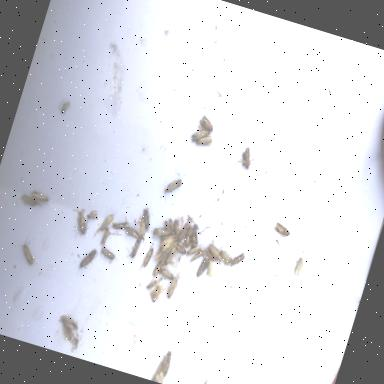pbw: (158, 174, 184, 207), (128, 214, 152, 244), (70, 208, 93, 238), (137, 244, 157, 276), (204, 240, 230, 264), (14, 192, 44, 212), (78, 246, 99, 272), (123, 232, 142, 260), (226, 250, 246, 276), (122, 219, 143, 243), (217, 239, 237, 264), (270, 217, 292, 239), (182, 242, 202, 266), (137, 206, 155, 232), (189, 125, 211, 146), (146, 281, 166, 304), (150, 255, 166, 283), (60, 324, 80, 346), (157, 232, 176, 254), (196, 114, 216, 134), (29, 188, 51, 206), (194, 255, 210, 279), (186, 227, 203, 249), (57, 314, 80, 330), (163, 276, 178, 300), (290, 254, 306, 276), (99, 211, 115, 233), (195, 132, 216, 148), (176, 220, 190, 244), (190, 245, 206, 265), (150, 226, 170, 242), (164, 245, 178, 267), (158, 265, 176, 282), (111, 218, 129, 235), (202, 258, 218, 277), (99, 248, 120, 262), (182, 224, 194, 248), (171, 242, 188, 258), (170, 218, 183, 236), (161, 219, 176, 234), (100, 226, 110, 246)
